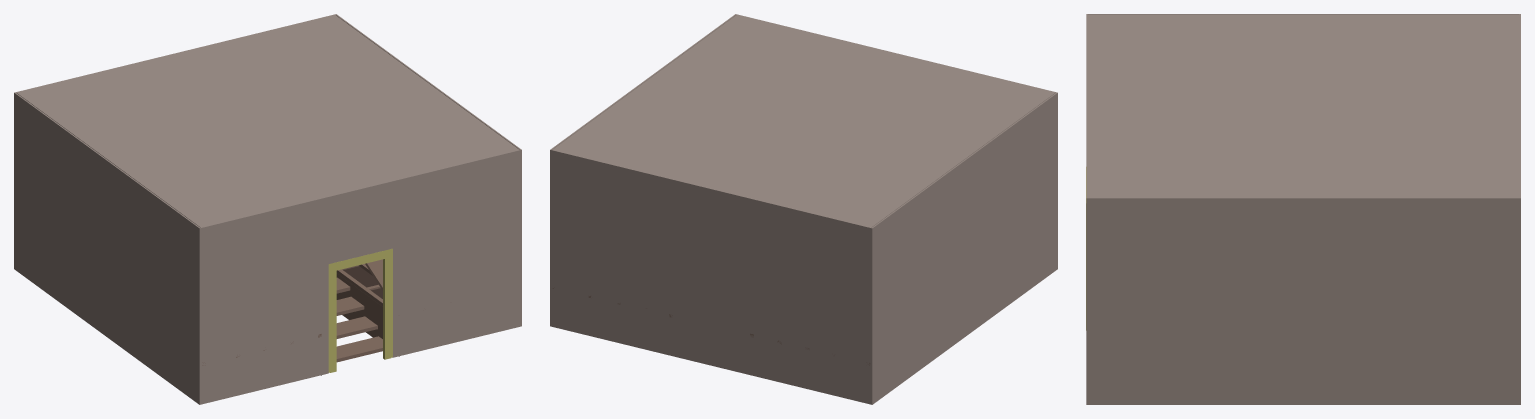
The model's file is Room02_Attic.fbx.
3 views of the same model, side by side, from view 1: azimuth 30°, elevation 25°; view 2: azimuth 150°, elevation 25°; view 3: azimuth 270°, elevation 25° (orthographic). The views are drawn at different scales.
Visible parts, largest first — view 1: Roof, WallSlicedPosZ, WallPosX, WallSlicedPosZ15, WallPosX6, DoorFramePosZ, pPlane3, pCube114, WallNegX, pCube113, Floor; view 2: Roof, WallNegZ, WallPosX, WallNegZ9, WallPosX6, WallNegX; view 3: Roof, WallNegX, WallNegX5, WallPosX.
Boxes of the visible parts, x1,y1,x2,y2 form: Roof: [17, 15, 518, 227]; WallSlicedPosZ: [200, 149, 520, 364]; WallPosX: [14, 92, 200, 364]; WallSlicedPosZ15: [200, 286, 520, 404]; WallPosX6: [14, 229, 201, 404]; DoorFramePosZ: [328, 248, 392, 372]; pPlane3: [336, 273, 399, 356]; pCube114: [336, 336, 382, 362]; WallNegX: [335, 14, 521, 285]; pCube113: [336, 316, 377, 338]; Floor: [341, 266, 382, 306]; Roof: [553, 15, 1054, 227]; WallNegZ: [550, 149, 871, 364]; WallPosX: [871, 92, 1057, 364]; WallNegZ9: [550, 286, 871, 404]; WallPosX6: [870, 229, 1057, 404]; WallNegX: [550, 14, 736, 285]; Roof: [1088, 15, 1518, 197]; WallNegX: [1086, 197, 1520, 357]; WallNegX5: [1086, 357, 1520, 404]; WallPosX: [1086, 14, 1520, 14].
Bounding box in the file's own units: 802 × 422 × 800.
